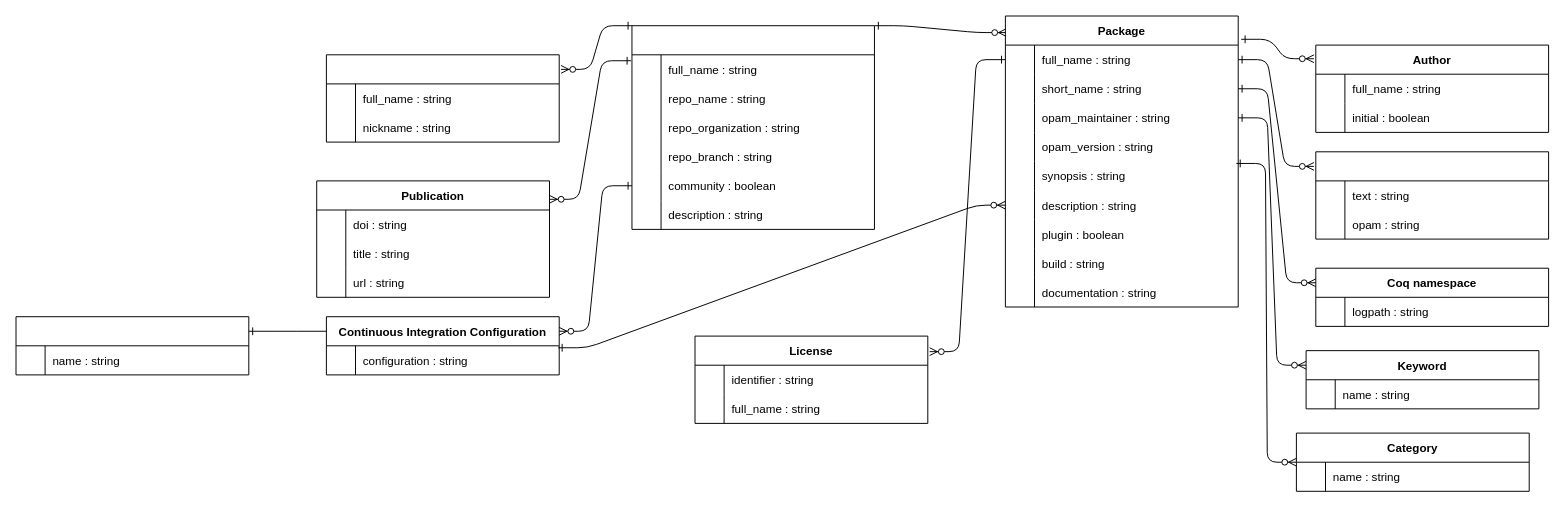
Image size: 1565x507. Some labels were removed from this diagram. The box of each missing label's shape, as (x1, y1, x2, y2) in pixels:
Continuous Integration System: (15, 316, 249, 375)
Dependency: (1315, 151, 1549, 239)
Maintainer: (325, 54, 559, 142)
Project: (631, 25, 874, 229)
